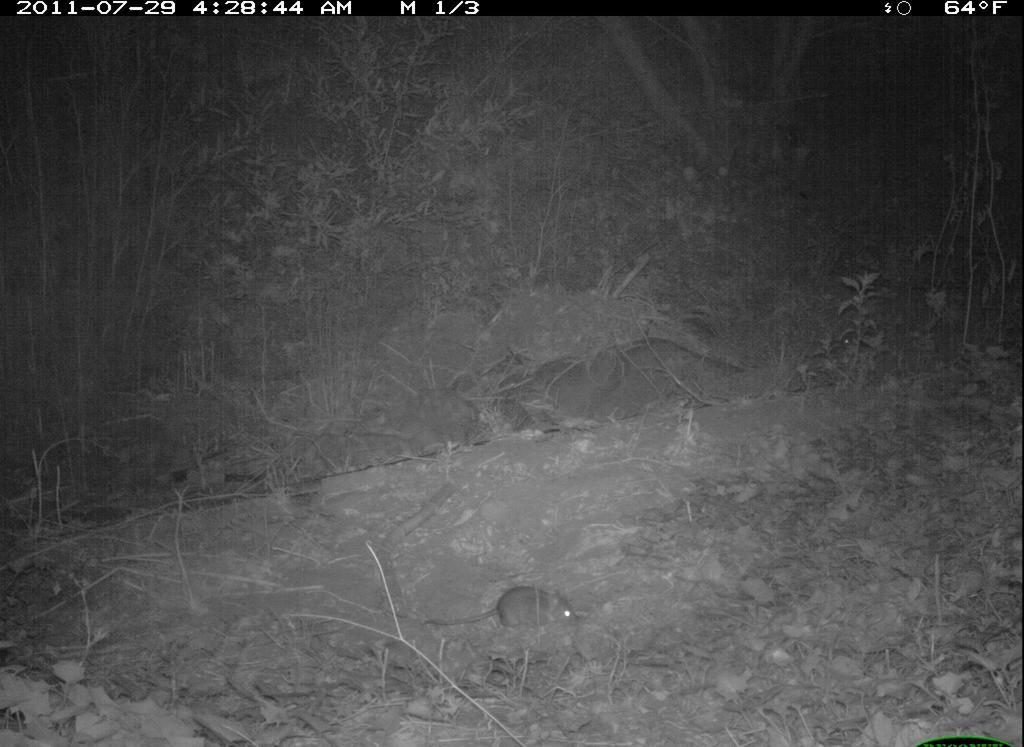rodent: (417, 577, 588, 637)
